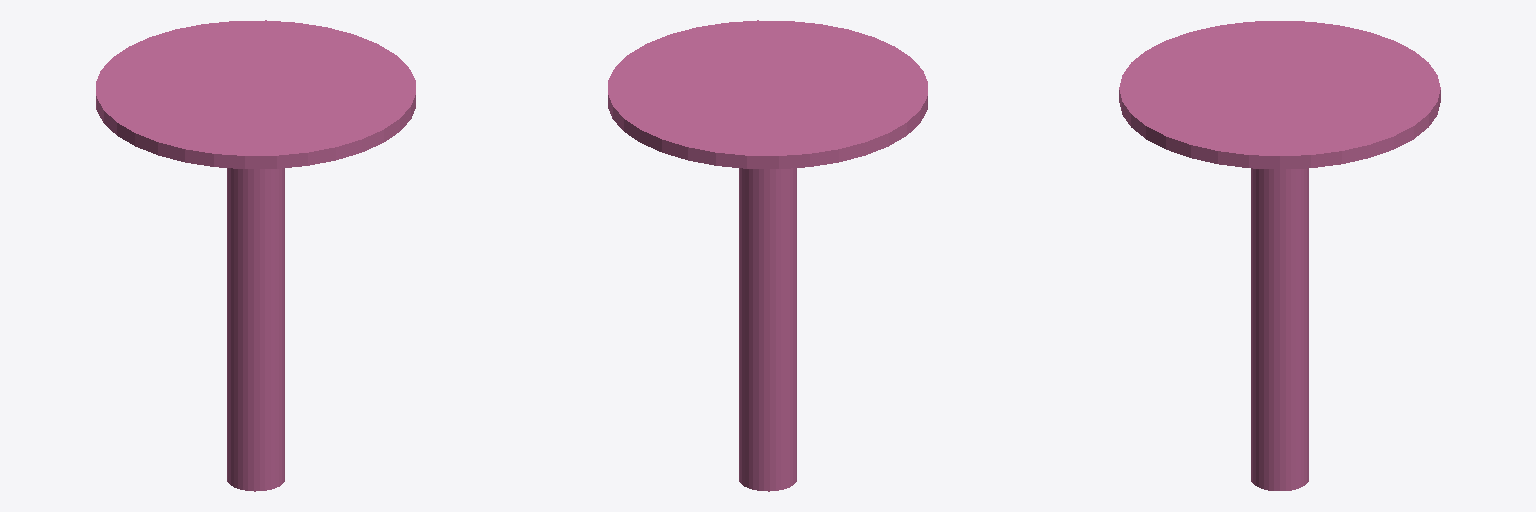
robot.urdf — rto:
<?xml version="1.0" ?>
<!-- =================================================================================== -->
<!-- |    This document was autogenerated by xacro from rto_platform.urdf.xacro   | -->
<!-- |    EDITING THIS FILE BY HAND IS NOT RECOMMENDED                                 | -->
<!-- =================================================================================== -->
<robot name="rto" xmlns:xacro="http://wiki.ros.org/xacro">
  <link name="base_link">
    <inertial>
      <mass value="20"/>
      <origin xyz="0 0 0"/>
      <inertia ixx="1.0" ixy="0.0" ixz="0.0" iyy="1.0" iyz="0.0" izz="1.0"/>
    </inertial>
    <visual>
      <origin rpy="0 0 1.570795" xyz="0.01 0 0"/>
      <geometry>
        <mesh filename="package://arena_simulation_setup/entities/robots/rto/urdf/meshes/parts/rto_base.dae" scale="0.01 0.01 0.01"/>
      </geometry>
    </visual>
    <collision>
      <origin rpy="0 0 0" xyz="0 0 0.025"/>
      <geometry>
        <cylinder length="0.05" radius="0.18"/>
      </geometry>
    </collision>
  </link>
  <gazebo reference="base_link">
    <material>Gazebo/White</material>
    <turnGravityOff>false</turnGravityOff>
  </gazebo>
  <link name="wheel0_link">
    <inertial>
      <mass value="0.00001"/>
      <origin xyz="0 0 0"/>
      <inertia ixx="1.0" ixy="0.0" ixz="0.0" iyy="1.0" iyz="0.0" izz="1.0"/>
    </inertial>
    <visual>
      <origin rpy="0 0 0" xyz="0 0 0"/>
      <geometry>
        <mesh filename="package://arena_simulation_setup/entities/robots/rto/urdf/meshes/parts/rto_wheel.dae" scale="0.01 0.01 0.01"/>
      </geometry>
    </visual>
  </link>
  <gazebo reference="wheel0_link">
    <material>Gazebo/Yellow</material>
    <turnGravityOff>false</turnGravityOff>
  </gazebo>
  <joint name="wheel0_joint" type="continuous">
    <origin rpy="0 0 1.04719666667" xyz="0.065 0.11 0.04"/>
    <axis xyz="-1 0 0"/>
    <parent link="base_link"/>
    <child link="wheel0_link"/>
  </joint>
  <transmission name="wheel0_joint_trans">
    <type>transmissio_interface/SimpleTransmission</type>
    <joint name="wheel0_joint"/>
    <actuator name="wheel0_motor">
      <hardwareInterface>EffortJointInterface</hardwareInterface>
      <mechanicalReducation>1</mechanicalReducation>
    </actuator>
  </transmission>
  <link name="wheel1_link">
    <inertial>
      <mass value="0.00001"/>
      <origin xyz="0 0 0"/>
      <inertia ixx="1.0" ixy="0.0" ixz="0.0" iyy="1.0" iyz="0.0" izz="1.0"/>
    </inertial>
    <visual>
      <origin rpy="0 0 0" xyz="0 0 0"/>
      <geometry>
        <mesh filename="package://arena_simulation_setup/entities/robots/rto/urdf/meshes/parts/rto_wheel.dae" scale="0.01 0.01 0.01"/>
      </geometry>
    </visual>
  </link>
  <gazebo reference="wheel1_link">
    <material>Gazebo/Yellow</material>
    <turnGravityOff>false</turnGravityOff>
  </gazebo>
  <joint name="wheel1_joint" type="continuous">
    <origin rpy="0 0 0" xyz="-0.13 0 0.04"/>
    <axis xyz="1 0 0"/>
    <parent link="base_link"/>
    <child link="wheel1_link"/>
  </joint>
  <transmission name="wheel1_joint_trans">
    <type>transmissio_interface/SimpleTransmission</type>
    <joint name="wheel1_joint"/>
    <actuator name="wheel1_motor">
      <hardwareInterface>EffortJointInterface</hardwareInterface>
      <mechanicalReducation>1</mechanicalReducation>
    </actuator>
  </transmission>
  <link name="wheel2_link">
    <inertial>
      <mass value="0.00001"/>
      <origin xyz="0 0 0"/>
      <inertia ixx="1.0" ixy="0.0" ixz="0.0" iyy="1.0" iyz="0.0" izz="1.0"/>
    </inertial>
    <visual>
      <origin rpy="0 0 0" xyz="0 0 0"/>
      <geometry>
        <mesh filename="package://arena_simulation_setup/entities/robots/rto/urdf/meshes/parts/rto_wheel.dae" scale="0.01 0.01 0.01"/>
      </geometry>
    </visual>
  </link>
  <gazebo reference="wheel2_link">
    <material>Gazebo/Yellow</material>
    <turnGravityOff>false</turnGravityOff>
  </gazebo>
  <joint name="wheel2_joint" type="continuous">
    <origin rpy="0 0 -1.04719666667" xyz="0.065 -0.11 0.04"/>
    <axis xyz="-1 0 0"/>
    <parent link="base_link"/>
    <child link="wheel2_link"/>
  </joint>
  <transmission name="wheel2_joint_trans">
    <type>transmissio_interface/SimpleTransmission</type>
    <joint name="wheel2_joint"/>
    <actuator name="wheel2_motor">
      <hardwareInterface>EffortJointInterface</hardwareInterface>
      <mechanicalReducation>1</mechanicalReducation>
    </actuator>
  </transmission>
  <link name="command_bridge_link">
    <inertial>
      <mass value="0.00001"/>
      <origin xyz="0 0 0"/>
      <inertia ixx="1.0" ixy="0.0" ixz="0.0" iyy="1.0" iyz="0.0" izz="1.0"/>
    </inertial>
    <collision>
      <origin rpy="0 0 0" xyz="0 0 0"/>
      <geometry>
        <box size="0.25 0.11 0.16"/>
      </geometry>
    </collision>
  </link>
  <joint name="command_bridge_joint" type="fixed">
    <origin rpy="0 0 1.570795" xyz="-0.05 0 0.13"/>
    <parent link="base_link"/>
    <child link="command_bridge_link"/>
  </joint>
  <link name="anglebracketusb_link">
    <inertial>
      <mass value="0.00001"/>
      <origin xyz="0 0 0"/>
      <inertia ixx="1.0" ixy="0.0" ixz="0.0" iyy="1.0" iyz="0.0" izz="1.0"/>
    </inertial>
    <visual>
      <origin rpy="0 0 0" xyz="0 0 0"/>
      <geometry>
        <mesh filename="package://arena_simulation_setup/entities/robots/rto/urdf/meshes/parts/angle_bracket_usb_hub.dae" scale="0.01 0.01 0.01"/>
      </geometry>
    </visual>
  </link>
  <joint name="anglebracketusb_joint" type="fixed">
    <origin rpy="0 0 1.570795" xyz="0.008 0 0.137"/>
    <parent link="base_link"/>
    <child link="anglebracketusb_link"/>
  </joint>
  <gazebo>
    <plugin filename="libgazebo_ros_planar_move.so" name="object_controller">
      <commandTopic>cmd_vel</commandTopic>
      <odometryTopic>odom</odometryTopic>
      <odometryFrame>odom</odometryFrame>
      <odometryRate>20</odometryRate>
      <robotBaseFrame>base_link</robotBaseFrame>
    </plugin>
    <plugin filename="libgazebo_ros_control.so" name="gazebo_ros_control"/>
  </gazebo>
  <!-- add platform -->
  <link name="platform_link">
    <inertial>
      <mass value="0.00001"/>
      <origin xyz="0 0 0"/>
      <inertia ixx="1.0" ixy="0.0" ixz="0.0" iyy="1.0" iyz="0.0" izz="1.0"/>
    </inertial>
    <visual>
      <origin xyz="0 0 0.29"/>
      <geometry>
        <cylinder length="0.58" radius="0.04"/>
      </geometry>
    </visual>
    <visual>
      <origin xyz="0 0 0.58"/>
      <geometry>
        <!-- actual length = 0.015 -->
        <cylinder length="0.02" radius="0.22"/>
      </geometry>
    </visual>
  </link>
  <joint name="platform_joint" type="fixed">
    <origin rpy="0 0 0" xyz="0.0 0.0 0.13"/>
    <parent link="base_link"/>
    <child link="platform_link"/>
  </joint>
</robot>

--- Facts derived from the render (not from the file) ---
Views: 3 orthographic renders of the robot side by side, from view 1: azimuth 30°, elevation 25°; view 2: azimuth 150°, elevation 25°; view 3: azimuth 270°, elevation 25°.
Robot: rto — 7 links, 6 joints (3 continuous, 3 fixed); root link base_link; default pose: every joint at zero.
Links seen in each view (by area): view 1: platform_link; view 2: platform_link; view 3: platform_link.
Boxes of the visible links, x1=… form: platform_link: x1=96, y1=20, x2=415, y2=491; platform_link: x1=608, y1=20, x2=927, y2=491; platform_link: x1=1119, y1=21, x2=1440, y2=490.
Bounding box of the posed robot: 0.44 × 0.44 × 0.59 m (x, y, z).
Meshes: 3 distinct files referenced, 0 mesh visuals loaded (none loaded); not drawn: 5 (reference not matched to a file when rendering).